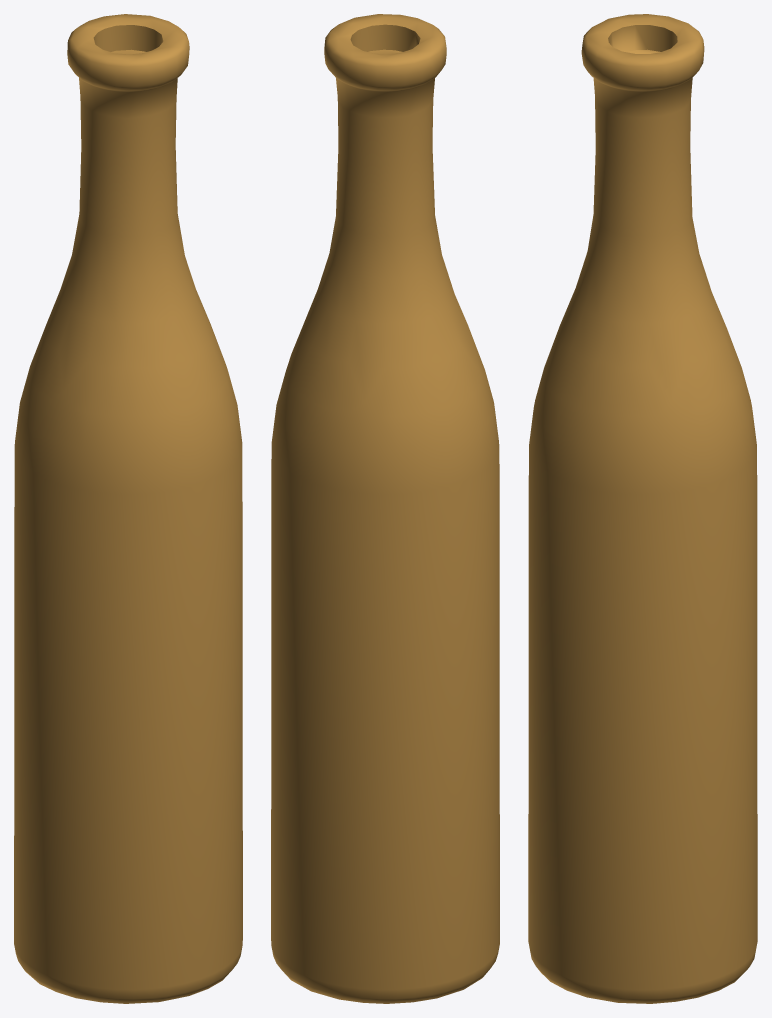
The model's file is SM_GlassBottle_LOD1.fbx.
3 views of the same model, side by side, from view 1: azimuth 30°, elevation 25°; view 2: azimuth 150°, elevation 25°; view 3: azimuth 270°, elevation 25° (orthographic).
Visible parts, largest first — view 1: SM_GlassBottle_LOD1; view 2: SM_GlassBottle_LOD1; view 3: SM_GlassBottle_LOD1.
Boxes of the visible parts, bbox=[...] form: SM_GlassBottle_LOD1: bbox=[14, 14, 242, 1003]; SM_GlassBottle_LOD1: bbox=[271, 14, 499, 1003]; SM_GlassBottle_LOD1: bbox=[528, 14, 757, 1003].
Bounding box in the file's own units: 6.3 × 6.3 × 28.02.
